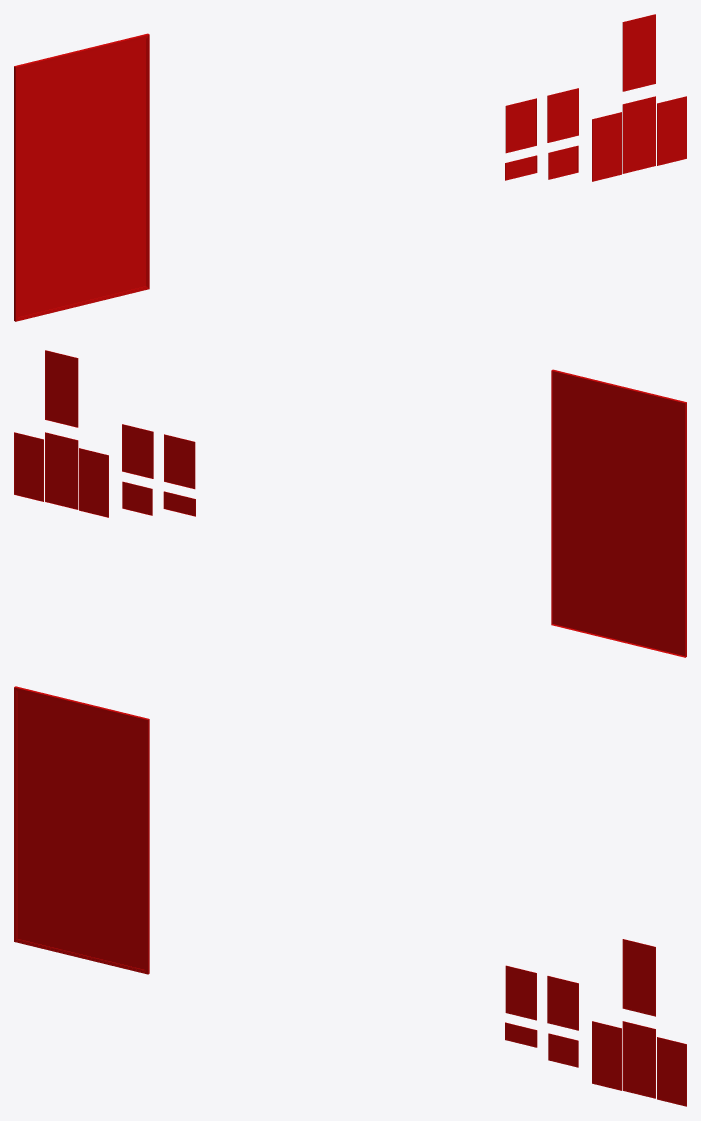
The model's file is Quadri Dietro.fbx.
3 renders of one model, top to bottom at view 1: azimuth 30°, elevation 25°; view 2: azimuth 150°, elevation 25°; view 3: azimuth 330°, elevation 25°, orthographic.
Parts seen in each view (by area): view 1: polySurface44, polySurface45, polySurface11, polySurface9, polySurface15, polySurface13, polySurface19, polySurface17, polySurface7, polySurface5; view 2: polySurface44, polySurface9, polySurface11, polySurface15, polySurface13, polySurface45, polySurface17, polySurface19, polySurface7, polySurface5; view 3: polySurface44, polySurface45, polySurface9, polySurface11, polySurface13, polySurface15, polySurface19, polySurface17, polySurface7.
Boxes of the visible parts, x1,y1,x2,y2 form: polySurface44: (18, 38, 145, 317); polySurface45: (14, 33, 149, 321); polySurface11: (623, 15, 655, 90); polySurface9: (623, 97, 655, 172); polySurface15: (657, 97, 686, 164); polySurface13: (593, 113, 621, 180); polySurface19: (506, 99, 536, 151); polySurface17: (548, 89, 577, 141); polySurface7: (549, 146, 577, 178); polySurface5: (505, 156, 536, 179); polySurface44: (553, 371, 685, 655); polySurface9: (45, 432, 77, 509); polySurface11: (45, 350, 77, 427); polySurface15: (14, 432, 43, 501); polySurface13: (79, 448, 108, 517); polySurface45: (551, 369, 686, 657); polySurface17: (122, 424, 153, 478); polySurface19: (164, 434, 194, 488); polySurface7: (122, 482, 152, 515); polySurface5: (164, 491, 195, 516); polySurface44: (17, 691, 145, 969); polySurface45: (14, 686, 149, 974); polySurface9: (623, 1022, 654, 1097); polySurface11: (623, 940, 654, 1015); polySurface13: (592, 1022, 621, 1089); polySurface15: (657, 1038, 685, 1105); polySurface19: (506, 966, 535, 1019); polySurface17: (548, 977, 577, 1029); polySurface7: (549, 1034, 577, 1066).
Bounding box in the file's own units: 54.19 × 19.71 × 0.2161.
